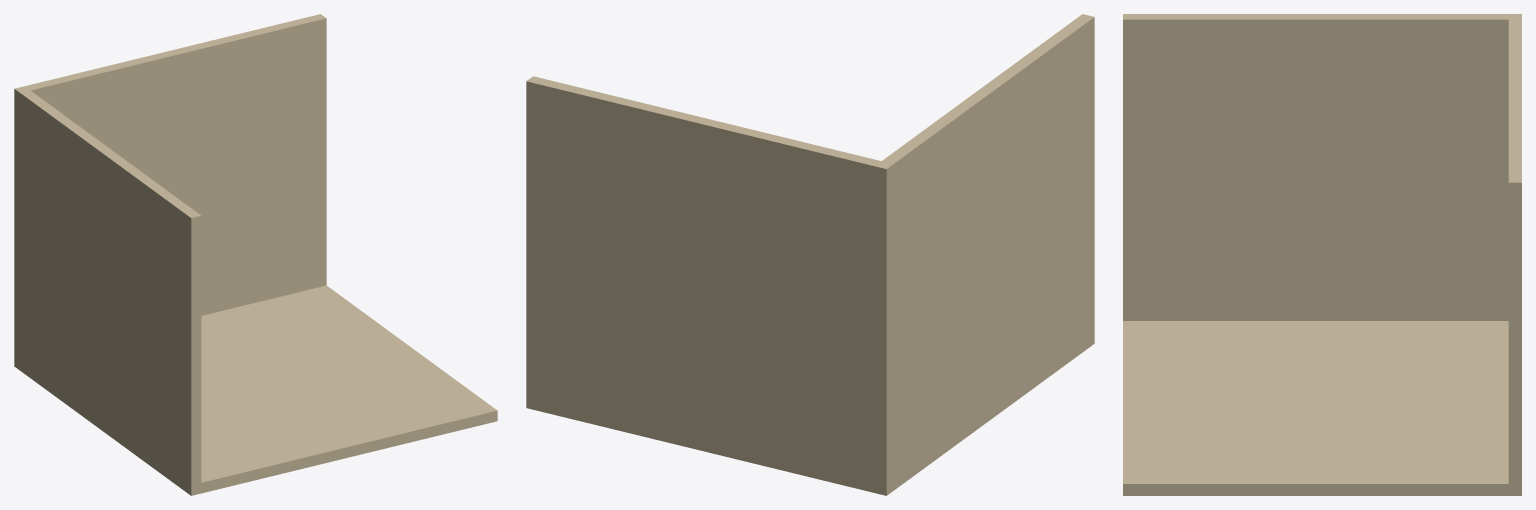
The model's file is room.fbx.
The picture shows the model from 3 angles, left to right: view 1: azimuth 30°, elevation 25°; view 2: azimuth 150°, elevation 25°; view 3: azimuth 270°, elevation 25°; orthographic projection. The views are drawn at different scales.
Parts seen in each view (by area): view 1: Plane.002, Plane.001, Plane; view 2: Plane.001, Plane.002, Plane; view 3: Plane.002, Plane, Plane.001.
Part boxes in pixels (x1=…): Plane.002: x1=14, y1=86, x2=201, y2=485; Plane.001: x1=25, y1=14, x2=326, y2=315; Plane: x1=14, y1=285, x2=497, y2=495; Plane.001: x1=526, y1=76, x2=893, y2=483; Plane.002: x1=874, y1=14, x2=1094, y2=482; Plane: x1=526, y1=331, x2=1094, y2=495; Plane.002: x1=1123, y1=14, x2=1521, y2=320; Plane: x1=1123, y1=321, x2=1521, y2=495; Plane.001: x1=1508, y1=14, x2=1521, y2=483.
Bounding box in the file's own units: 300 × 260 × 300.
